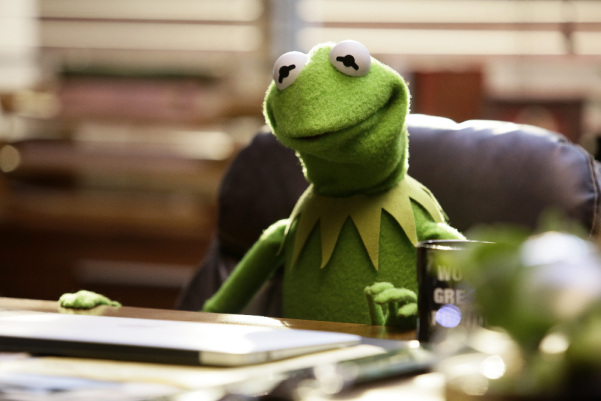kermit: (262, 39, 415, 192)
